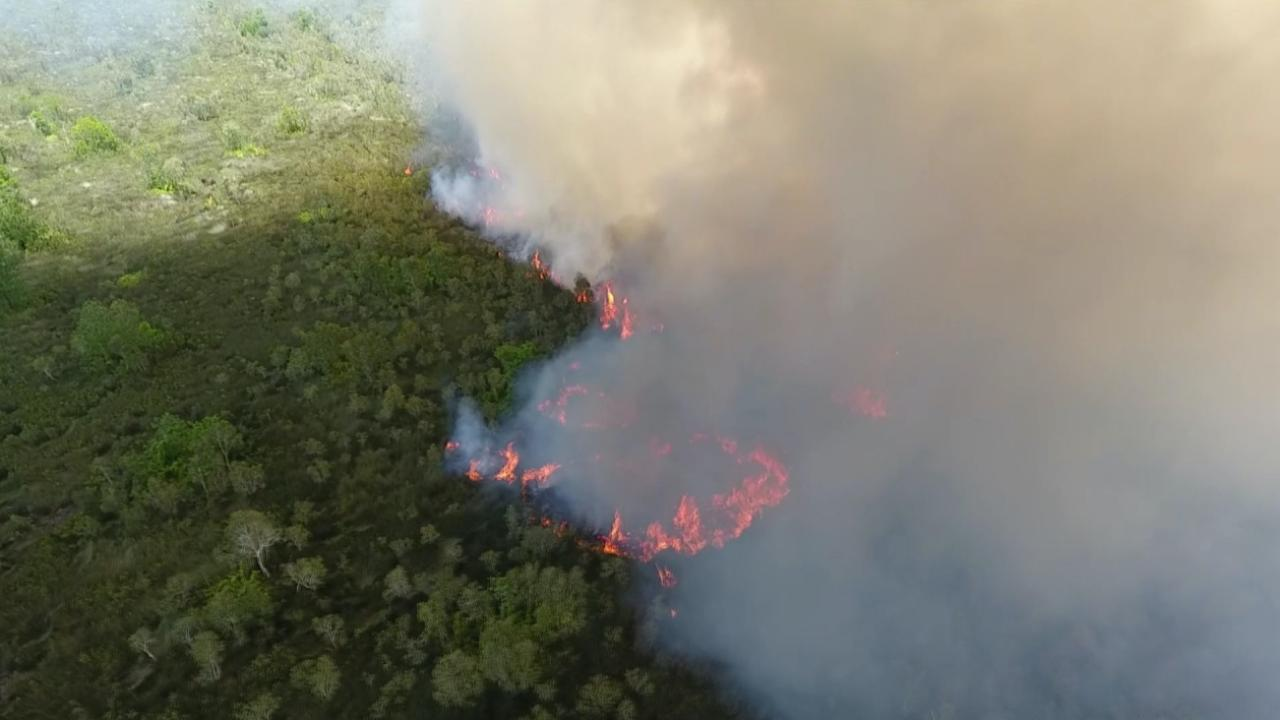fire: (407, 314, 828, 587), (427, 136, 661, 347), (594, 267, 635, 348), (842, 364, 890, 433), (399, 145, 428, 191)
